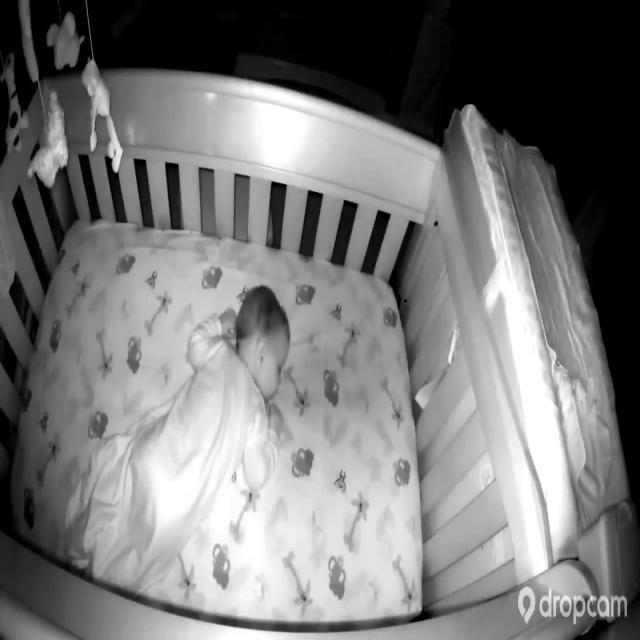baby: (85, 282, 292, 592)
